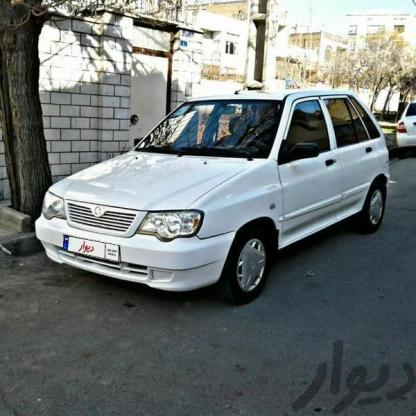Car: (28, 84, 401, 319), (389, 86, 416, 152)
